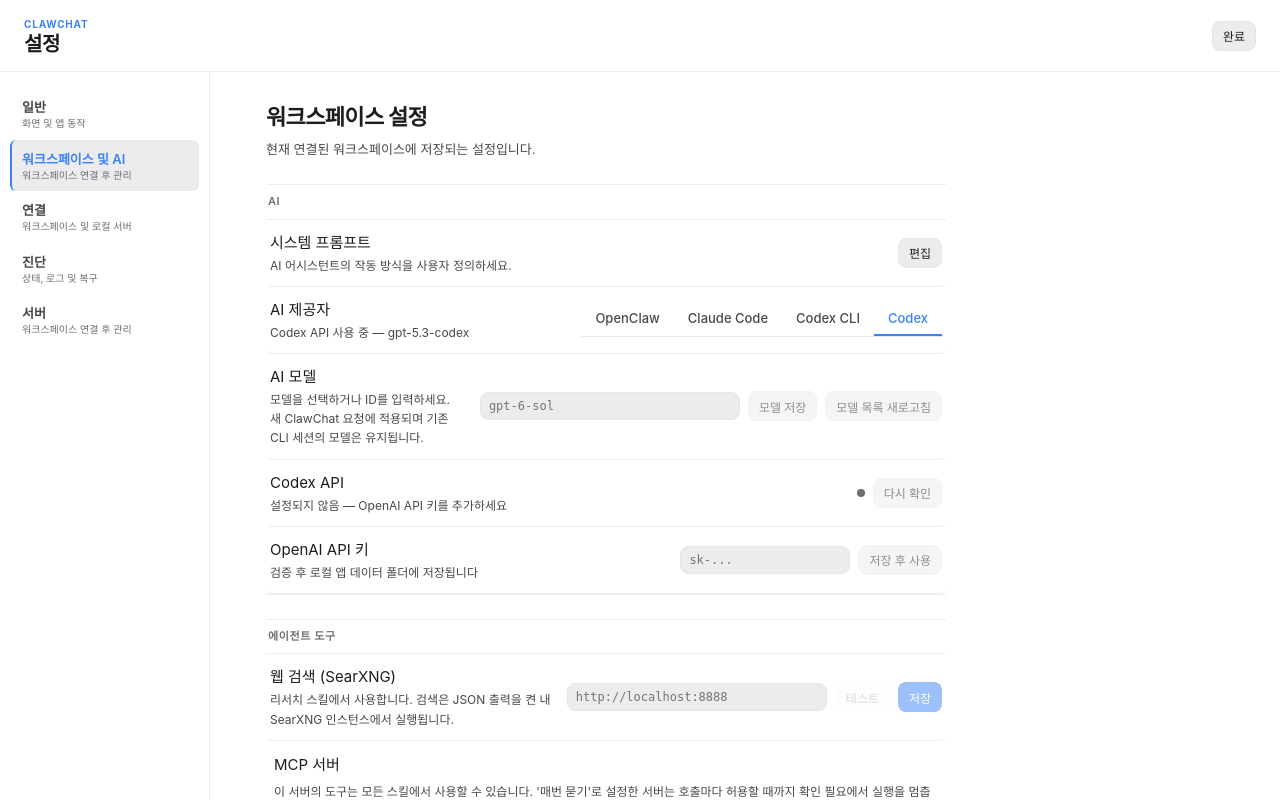
Test: SettingsPage Codex provider › renders Codex settings and stable provider errors in Korean
The width and height of the screenshot is (1280, 800).
Check: the heading "워크스페이스 설정" is shown, box [266,104,427,130]
Check: the button "Codex" is shown, box [874,302,942,336]
In the password field named "OpenAI API 키": (765, 560) [680,546,850,574], type "sk-user-entered-secret-key-for-codex-provider"
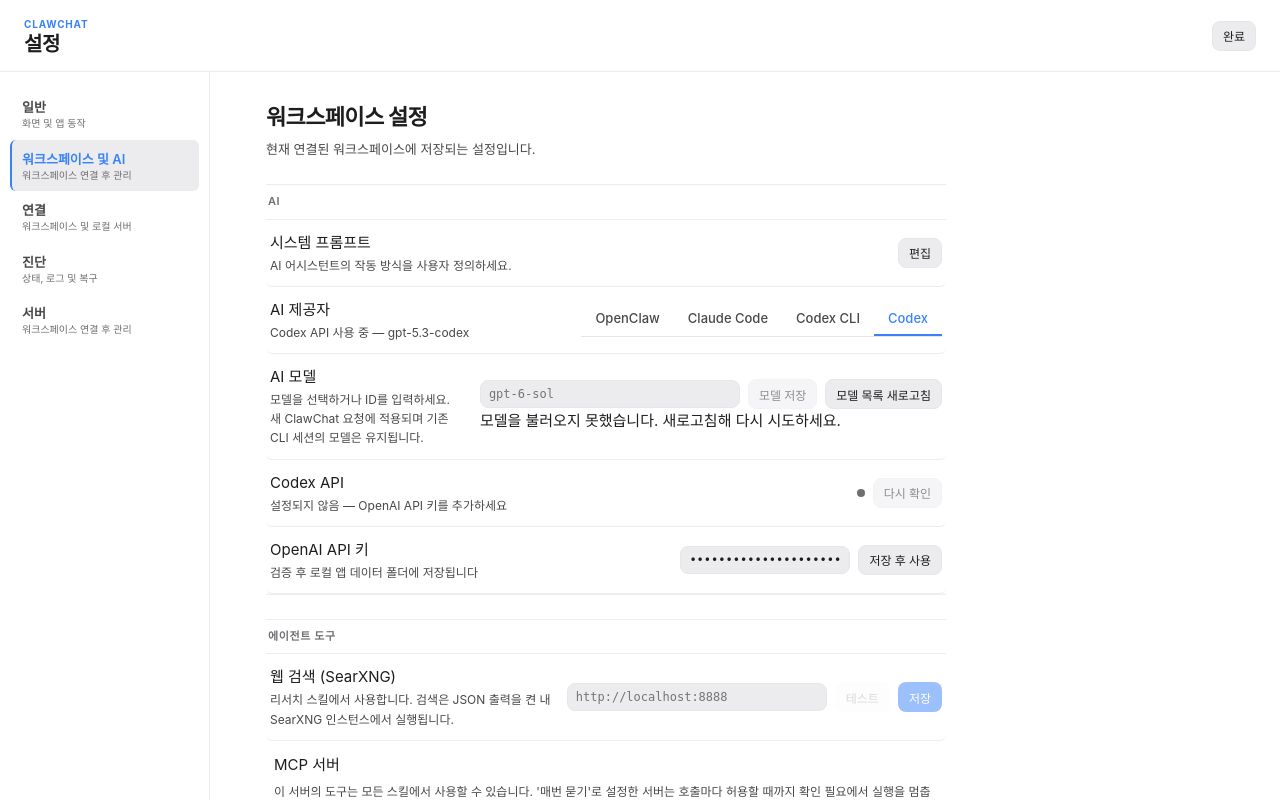
Click the button "저장 후 사용": click(900, 560) [858,545,942,575]
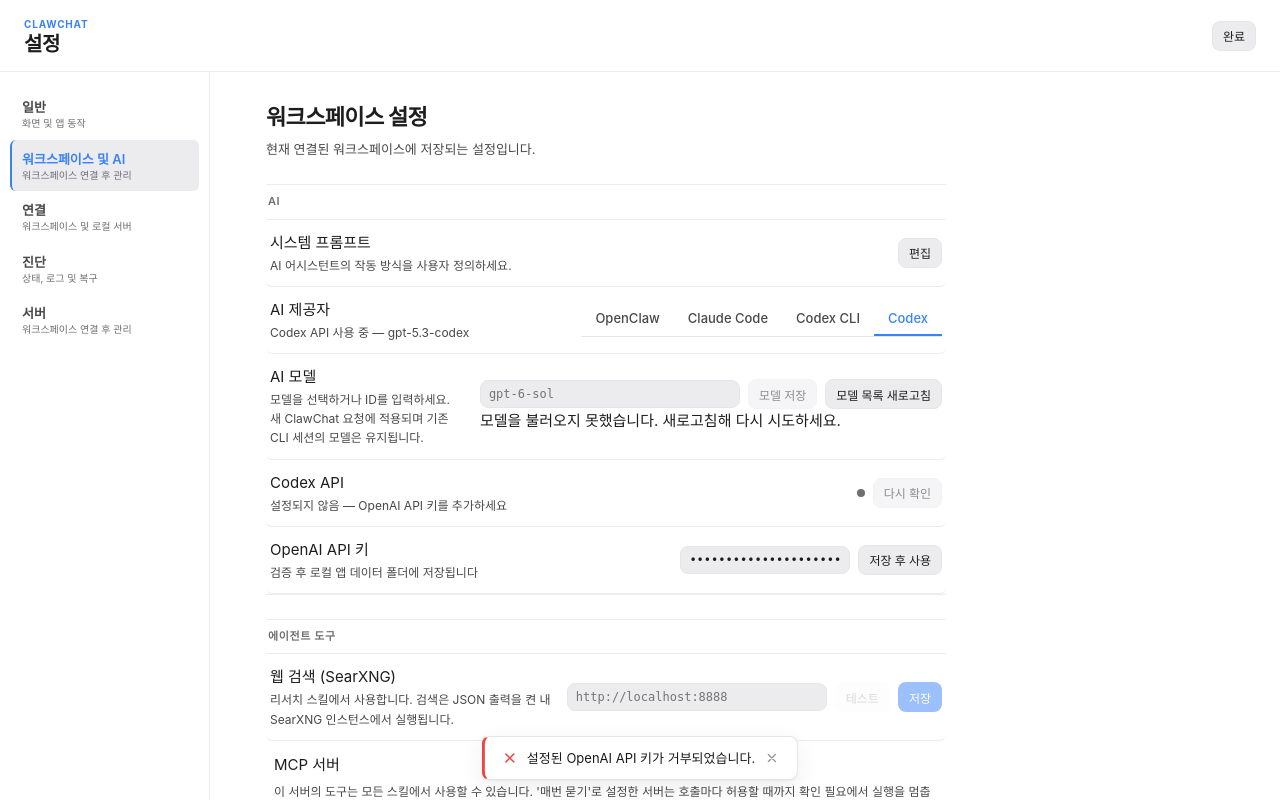
Check: the text "설정된 OpenAI API 키가 거부되었습니다." is shown, box [527,749,755,767]
